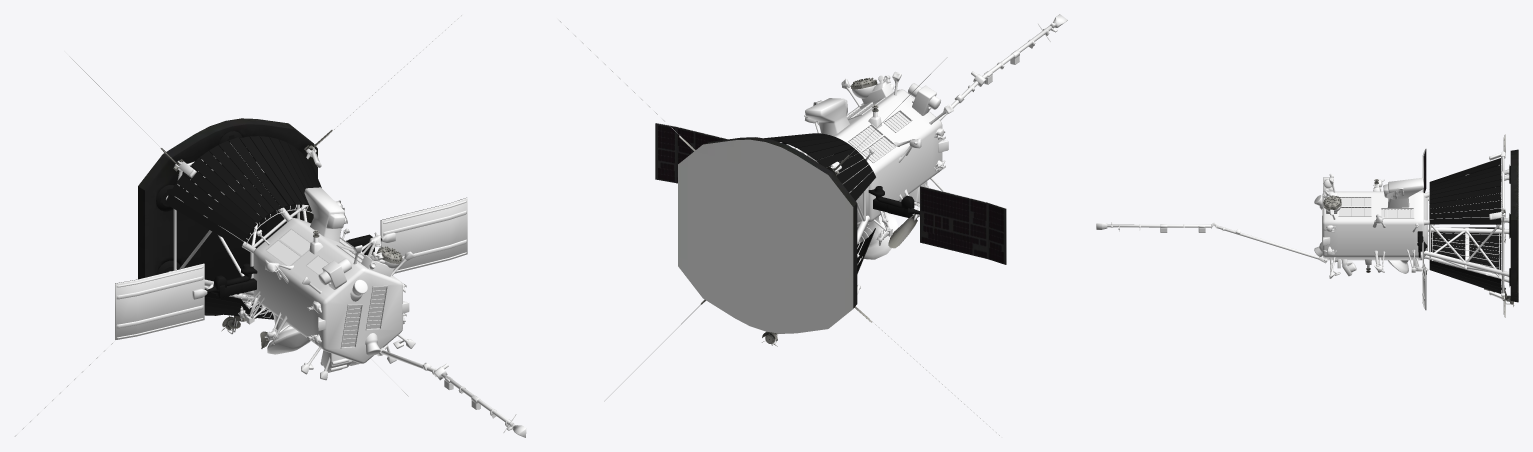
The model's file is parker.glb.
3 views of the same model, side by side, from view 1: azimuth 30°, elevation 25°; view 2: azimuth 150°, elevation 25°; view 3: azimuth 270°, elevation 25° (orthographic). The views are drawn at different scales.
Parts seen in each view (by area): view 1: BUS, Instruments, CoolingSystem, solarWing_LeftBacking, solarWing_RightBacking, vents, solarArray_arms, boom, heatShield_Mounting, HGA; view 2: Instruments, BUS, CoolingSystem, vents, boom, solarArray_arms, electricAntennas; view 3: BUS, CoolingSystem, Instruments, vents, boom, CoolingSystem_frame.
Boxes of the visible parts, <box> form: BUS: <box>165,143,415,380</box>; Instruments: <box>115,118,466,348</box>; CoolingSystem: <box>165,136,321,319</box>; solarWing_LeftBacking: <box>115,263,204,339</box>; solarWing_RightBacking: <box>381,198,467,273</box>; vents: <box>265,228,387,348</box>; solarArray_arms: <box>192,232,395,299</box>; boom: <box>377,345,526,437</box>; heatShield_Mounting: <box>156,131,242,294</box>; HGA: <box>267,331,310,354</box>; Instruments: <box>655,77,1006,346</box>; BUS: <box>788,72,953,294</box>; CoolingSystem: <box>764,133,875,273</box>; vents: <box>846,97,912,162</box>; boom: <box>939,14,1067,120</box>; solarArray_arms: <box>868,186,919,217</box>; electricAntennas: <box>556,17,1001,437</box>; BUS: <box>1314,151,1509,300</box>; CoolingSystem: <box>1429,158,1501,293</box>; Instruments: <box>1323,134,1518,317</box>; vents: <box>1322,196,1414,242</box>; boom: <box>1096,222,1327,263</box>; CoolingSystem_frame: <box>1429,165,1511,304</box>.
Bounding box in the file's own units: 5.75 × 5.26 × 6.61.
Materials: 7 (2 with a texture image).
